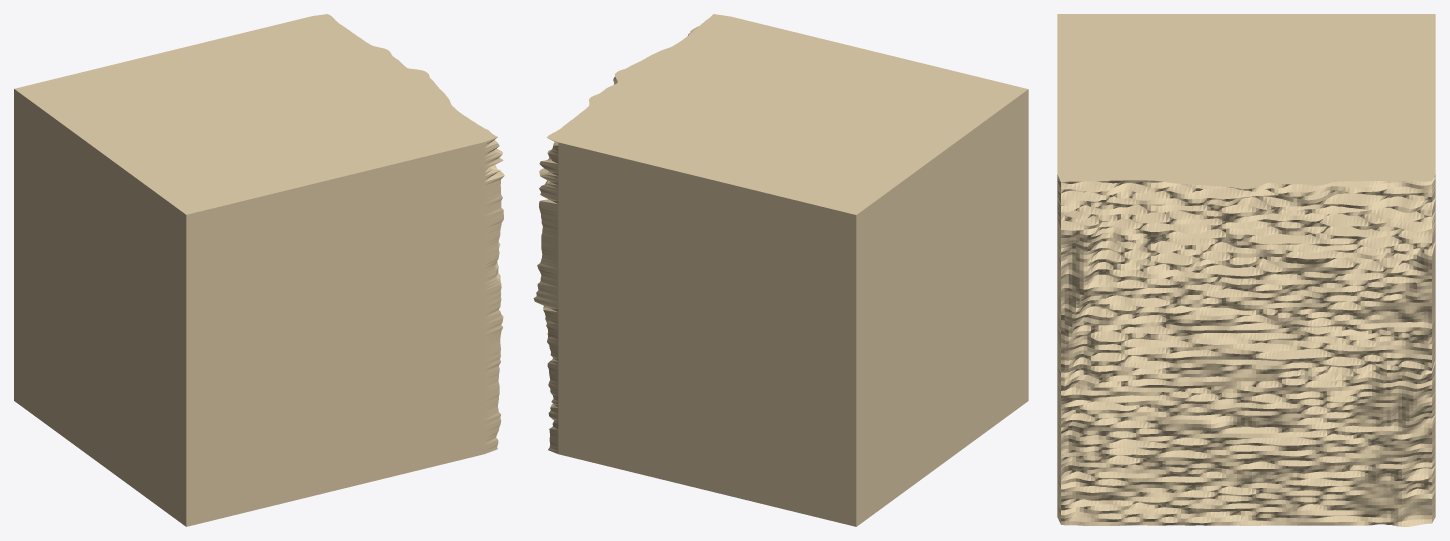
File: lat7.png.obj
3 renders of one model, left to right at view 1: azimuth 30°, elevation 25°; view 2: azimuth 150°, elevation 25°; view 3: azimuth 270°, elevation 25°, orthographic. The views are drawn at different scales.
Visible parts, largest first — view 1: Cube; view 2: Cube; view 3: Cube.
Part boxes in pixels (box(x1,y1,x2,y2)): Cube: box(14, 14, 504, 526); Cube: box(533, 14, 1028, 526); Cube: box(1057, 14, 1435, 526).
Bounding box in the file's own units: 1.09 × 1 × 1.
